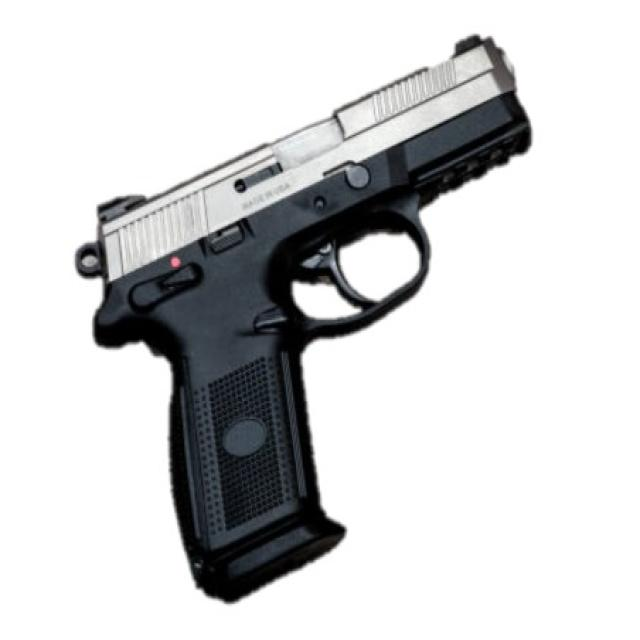pistol: (70, 21, 543, 609)
